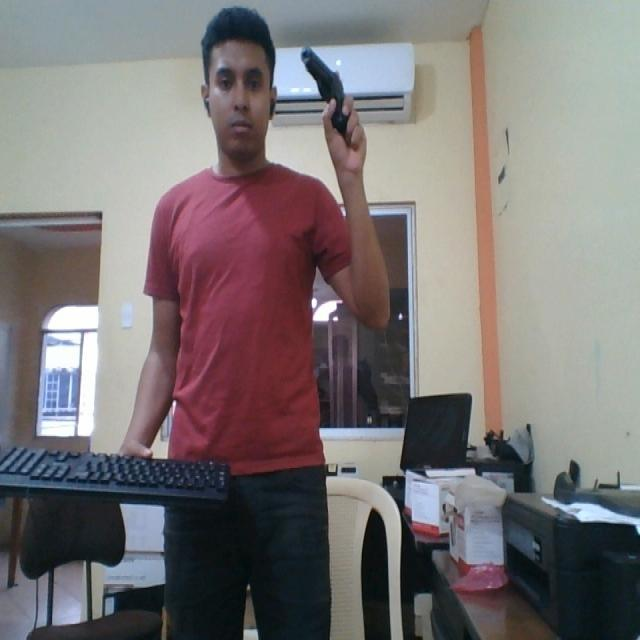weapon: (299, 44, 352, 139)
